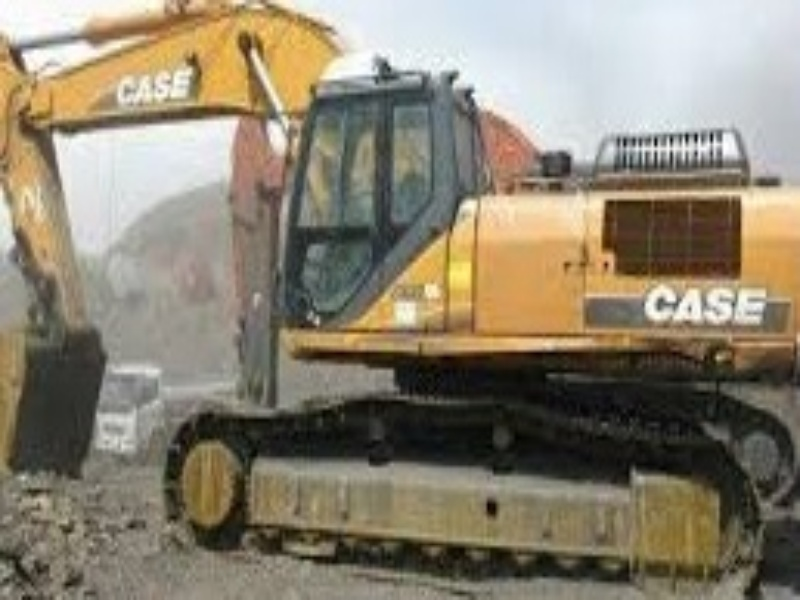wajueji: (159, 28, 800, 577)
